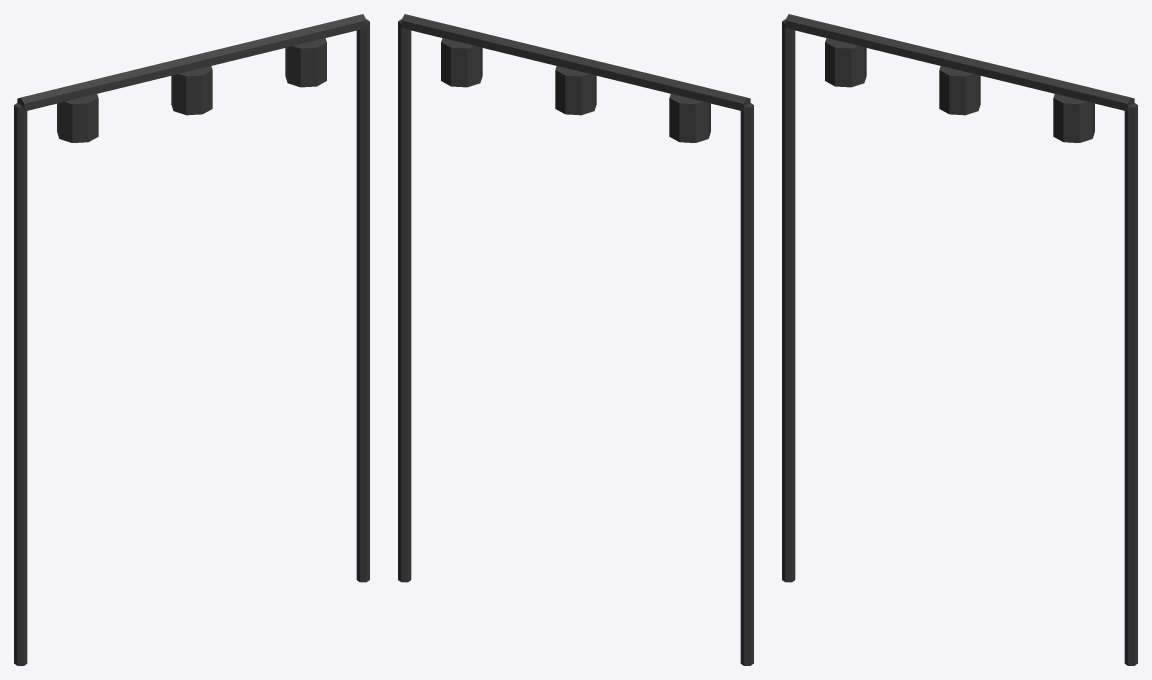
3 renders of one model, left to right at view 1: azimuth 30°, elevation 25°; view 2: azimuth 150°, elevation 25°; view 3: azimuth 330°, elevation 25°, orthographic.
Visible parts, largest first — view 1: Pole, Pole.001, Track, Spot, Spot.001, Spot.002; view 2: Pole, Pole.001, Track, Spot, Spot.001, Spot.002; view 3: Pole.001, Pole, Track, Spot.002, Spot, Spot.001.
Part boxes in pixels (<box>): Pole: <box>14,103,27,665</box>; Pole.001: <box>356,19,369,582</box>; Track: <box>17,14,366,111</box>; Spot: <box>57,93,98,142</box>; Spot.001: <box>171,66,212,115</box>; Spot.002: <box>285,38,326,87</box>; Pole: <box>740,103,753,665</box>; Pole.001: <box>398,19,411,582</box>; Track: <box>401,14,750,111</box>; Spot: <box>669,93,710,142</box>; Spot.001: <box>555,66,596,115</box>; Spot.002: <box>441,38,482,87</box>; Pole.001: <box>1124,103,1137,665</box>; Pole: <box>782,19,795,582</box>; Track: <box>785,14,1134,111</box>; Spot.002: <box>1053,93,1094,142</box>; Spot: <box>825,38,866,87</box>; Spot.001: <box>939,66,980,115</box>.
Bounding box in the file's own units: 1.23 × 1.9 × 0.13.
Materials: 1 (1 with a texture image).
